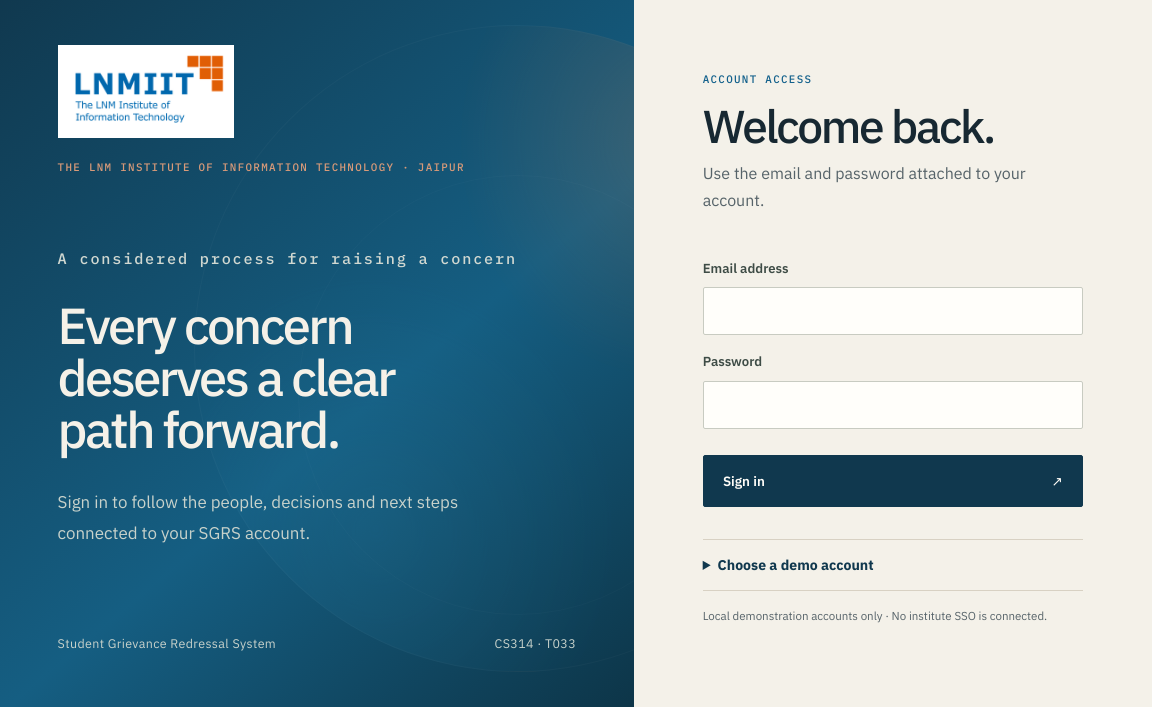
Test case: authentication experience › lets a demo account fill only the email field
Check: the heading "Welcome back." is shown, box [703, 96, 994, 156]
Click the heading "Choose a demo account" at (796, 565), box [718, 556, 874, 574]
(page scrolled)
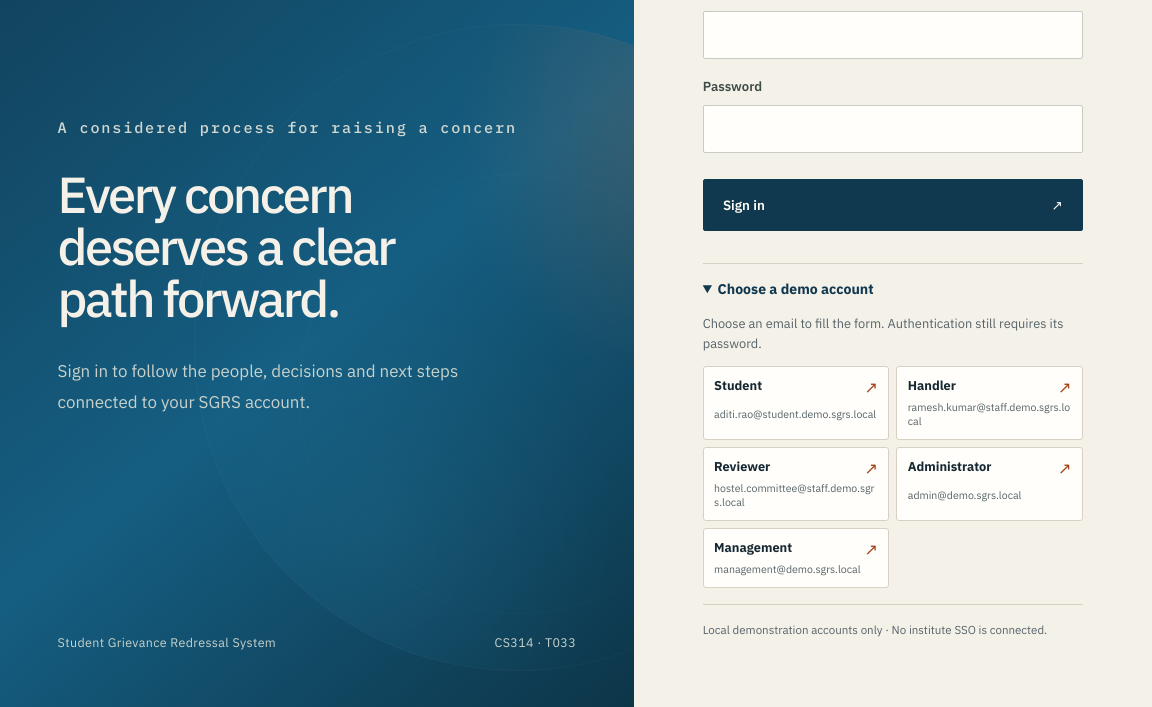
Click the button "Administrator ↗ admin@demo.sgrs.local" at (990, 484), box [896, 447, 1083, 521]
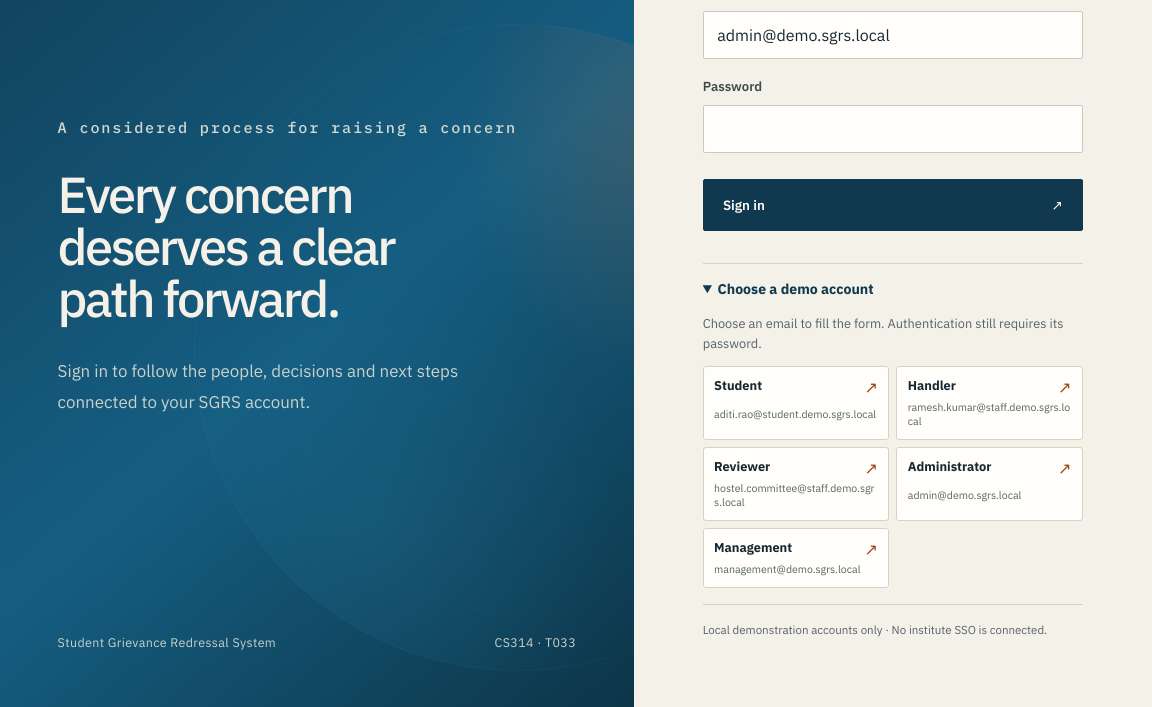
Check: the password field labelled "Password" is empty, box [703, 105, 1083, 153]
Check: the field labelled "Email address" holds "admin@demo.sgrs.local", box [703, 11, 1083, 59]
